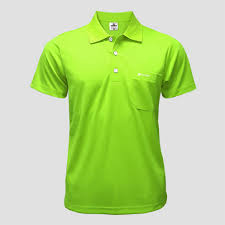S_polo shirt: (29, 12, 198, 220)
